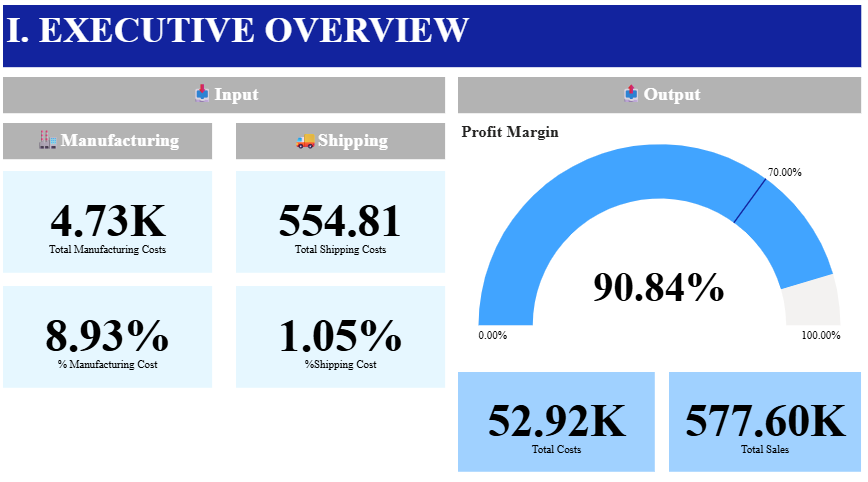

The page's visual inventory and layout, read from the dashboard file:
{"tool":"powerbi","page":{"name":"I. EXECUTIVE OVERVIEW","canvas":[1280,720],"ordinal":0},"visuals":[{"type":"card","fields":{"Values":["Sum(supply_chain_data.Shipping costs)"]},"box":[351.4,233.7,305.9,149.3],"z":1000},{"type":"card","fields":{"Values":["Sum(supply_chain_data.Revenue generated)"]},"box":[985,536.6,281,146.3],"z":2000},{"type":"card","fields":{"Values":["Sum(supply_chain_data.Costs)"]},"box":[676.2,536.6,288.3,146.3],"z":3000},{"type":"card","fields":{"Values":["Sum(supply_chain_data.Manufacturing costs)"]},"box":[11.5,233.3,305.3,149.8],"z":4000},{"type":"card","fields":{"Values":["supply_chain_data.% Manufacturing Cost/Revenue"]},"box":[11.5,401.8,305.3,149.8],"z":5000},{"type":"card","fields":{"Values":["supply_chain_data.%Shipping Cost/Revenue"]},"box":[351.4,402,305.9,149.3],"z":6000},{"type":"gauge","fields":{"Y":["supply_chain_data.Profit Margin"]},"box":[676.8,162.7,589,362.9],"z":7000},{"type":"textbox","box":[676.2,95.6,589.8,52.7],"z":8000},{"type":"textbox","box":[11.5,95,645.1,53.3],"z":9000},{"type":"textbox","box":[11.5,162.7,305.3,53.3],"z":10000},{"type":"textbox","box":[351.4,162.9,305.9,52.7],"z":11000},{"type":"textbox","box":[11.5,8.6,1255.7,76.3],"z":11001}]}

Visuals, with their boxes in screenshot pixels (x1, y1, x2, y2), scaled from the page's 1280x720 canvas onto the 868x482 screenshot:
card - Sum(supply_chain_data.Shipping costs): locate(238, 156, 446, 256)
card - Sum(supply_chain_data.Revenue generated): locate(668, 359, 859, 457)
card - Sum(supply_chain_data.Costs): locate(459, 359, 654, 457)
card - Sum(supply_chain_data.Manufacturing costs): locate(8, 156, 215, 256)
card - supply_chain_data.% Manufacturing Cost/Revenue: locate(8, 269, 215, 369)
card - supply_chain_data.%Shipping Cost/Revenue: locate(238, 269, 446, 369)
gauge - supply_chain_data.Profit Margin: locate(459, 109, 858, 352)
textbox: locate(459, 64, 859, 99)
textbox: locate(8, 64, 445, 99)
textbox: locate(8, 109, 215, 145)
textbox: locate(238, 109, 446, 144)
textbox: locate(8, 6, 859, 57)
